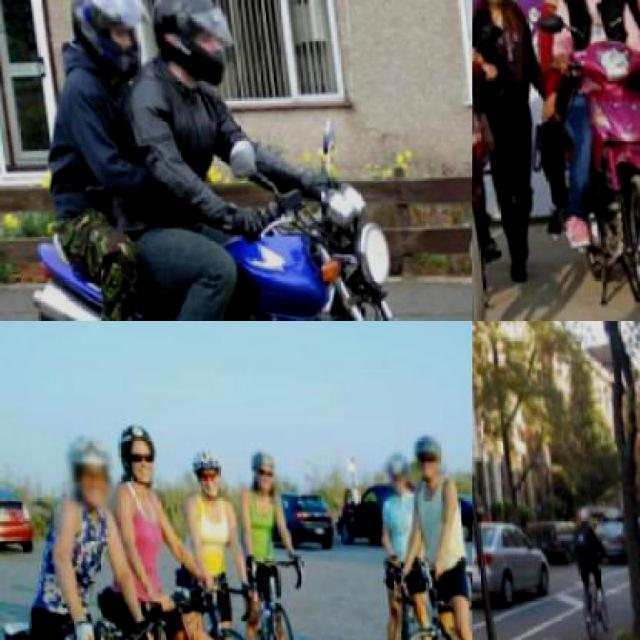With Helmet: (150, 0, 238, 89), (65, 0, 157, 80), (61, 429, 119, 513), (109, 412, 162, 491), (240, 433, 286, 496), (184, 439, 224, 499), (406, 422, 446, 478), (380, 442, 412, 492), (571, 489, 594, 523)
